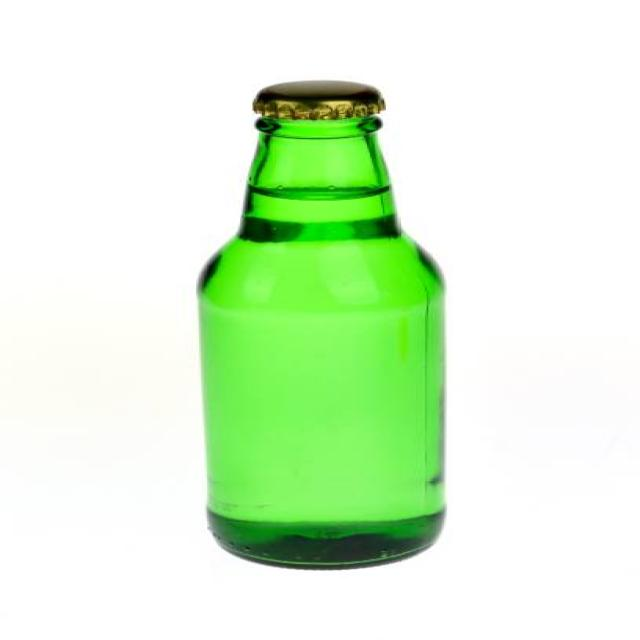electronic: (202, 80, 453, 576)
